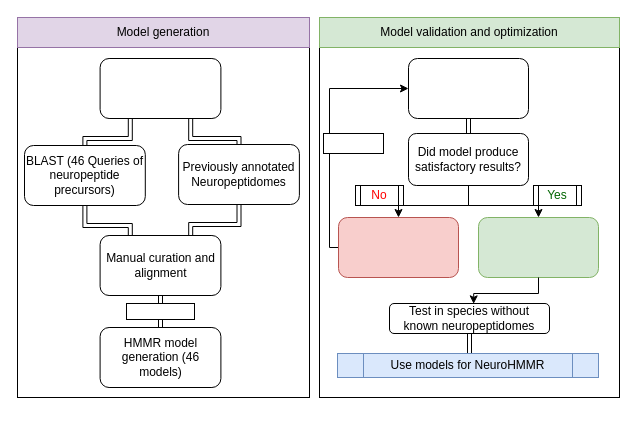
This 637x431 diagram has some shape labels left out. The shapes that lost their labels are listed below. From the top down, each one's box as (x1, y1, x2, y2) in pixels, then its label:
(99, 58, 221, 118): Species database 17 species of Arthropoda
(408, 58, 528, 118): 46 models used for mining already known neuropeptidomes
(322, 132, 384, 154): Re-test
(338, 216, 458, 278): Regenerate models by re-alignment and reducing trimming
(478, 216, 598, 278): Keep model in database
(126, 302, 194, 320): Trimming
